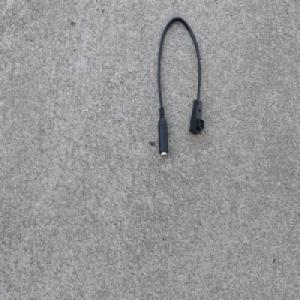Wire: (156, 13, 205, 158)
